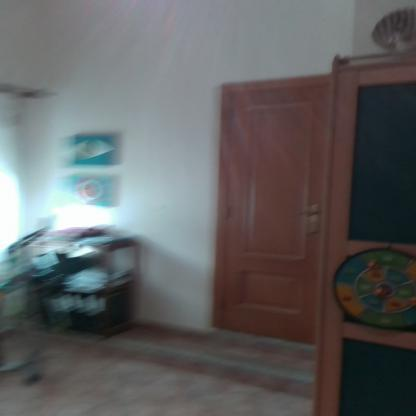door: (230, 91, 326, 340)
hinged: (227, 107, 234, 122), (219, 294, 226, 309), (224, 205, 230, 220)
lever: (292, 210, 317, 218)
